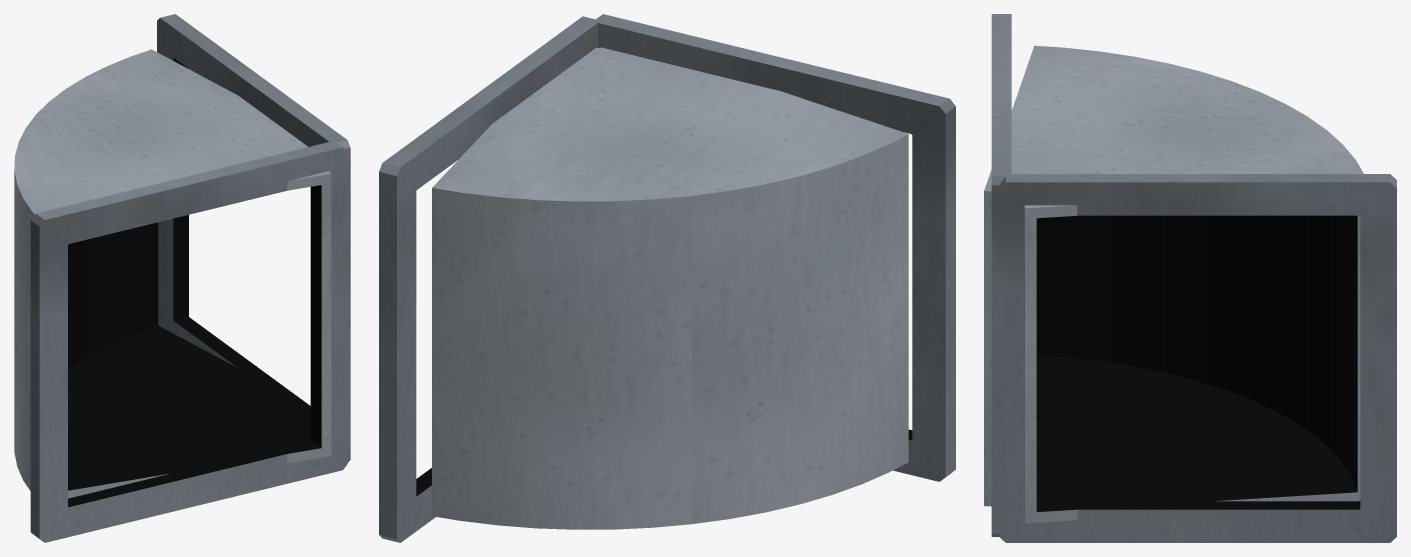
Rendered from duct_corner.glb.
The picture shows the model from 3 angles, left to right: view 1: azimuth 30°, elevation 25°; view 2: azimuth 150°, elevation 25°; view 3: azimuth 270°, elevation 25°; orthographic projection. The views are drawn at different scales.
Parts seen in each view (by area): view 1: Body.002; view 2: Body.002; view 3: Body.002.
Part boxes in pixels (x1=…): Body.002: x1=14, y1=14, x2=350, y2=542; Body.002: x1=379, y1=14, x2=955, y2=542; Body.002: x1=984, y1=14, x2=1396, y2=542.
Bounding box in the file's own units: 0.2471 × 0.238 × 0.2471.
Materials: 3 (2 with a texture image).
